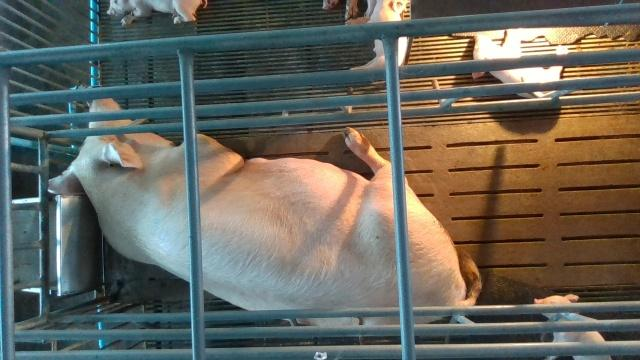piglet: (472, 27, 568, 98), (533, 294, 613, 360), (346, 0, 408, 70), (107, 0, 207, 26)
sow-sit: (49, 95, 482, 328)
